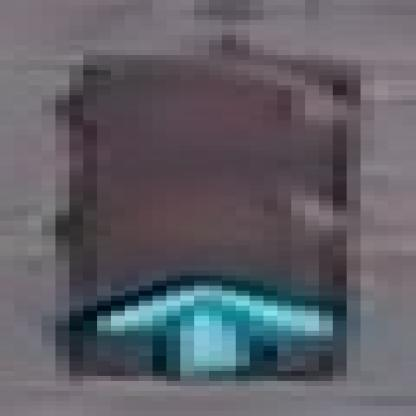Green Light: (57, 48, 358, 382)
